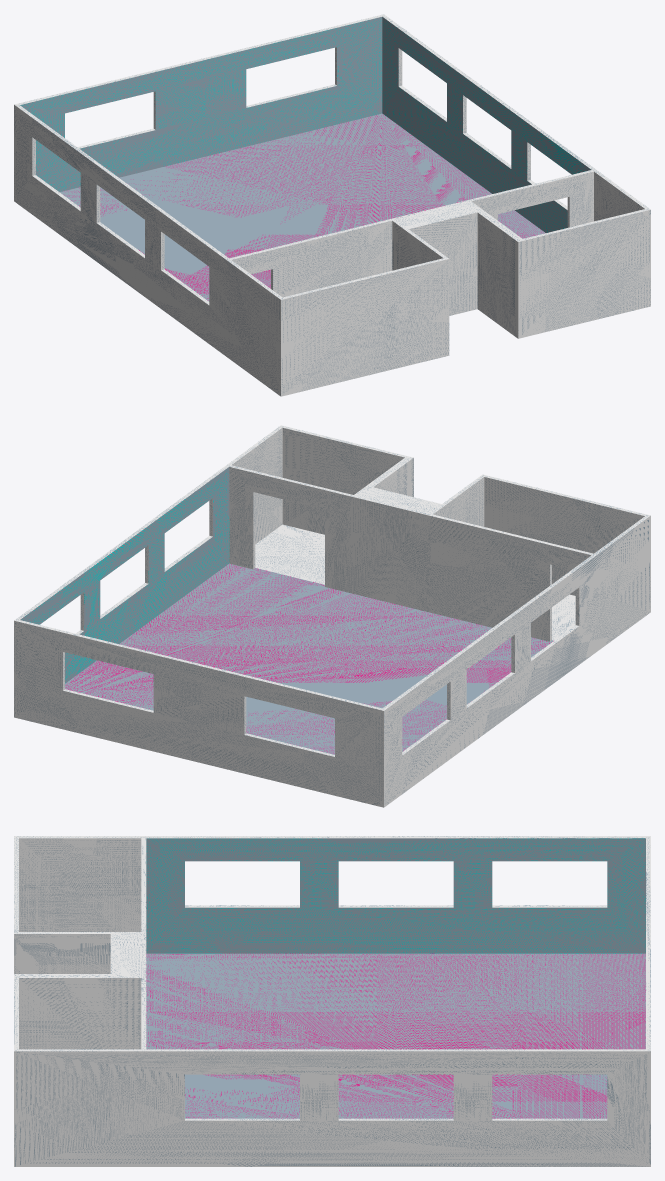
Rendered from LaboratorioDivido.fbx.
3 renders of one model, top to bottom at view 1: azimuth 30°, elevation 25°; view 2: azimuth 150°, elevation 25°; view 3: azimuth 270°, elevation 25°, orthographic. The views are drawn at different scales.
Parts seen in each view (by area): view 1: Model, Group1; view 2: Model, Group1; view 3: Model, Group1.
Boxes of the visible parts, box(x1,y1,x2,y2) form: Model: box(14, 14, 650, 396); Group1: box(60, 113, 545, 301); Model: box(14, 425, 650, 807); Group1: box(65, 524, 575, 754); Model: box(14, 836, 650, 1166); Group1: box(146, 953, 645, 1118).
Size of the model in its own units: 10 by 2.5 by 12.5.
